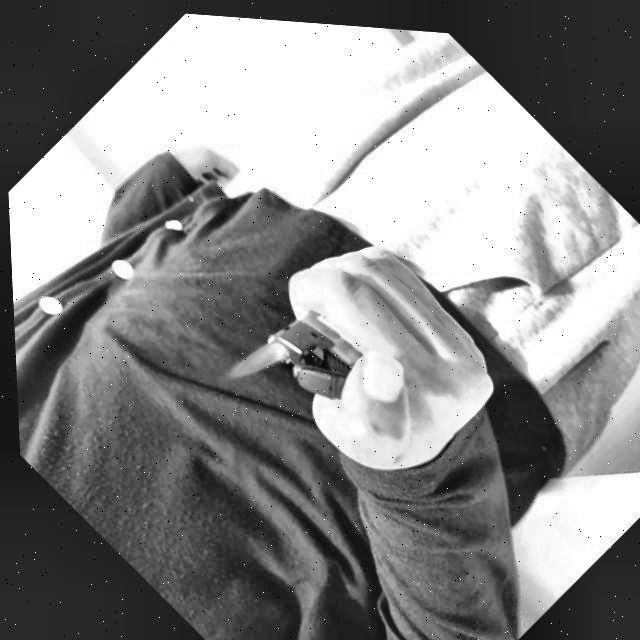Fire: (217, 321, 291, 398)
